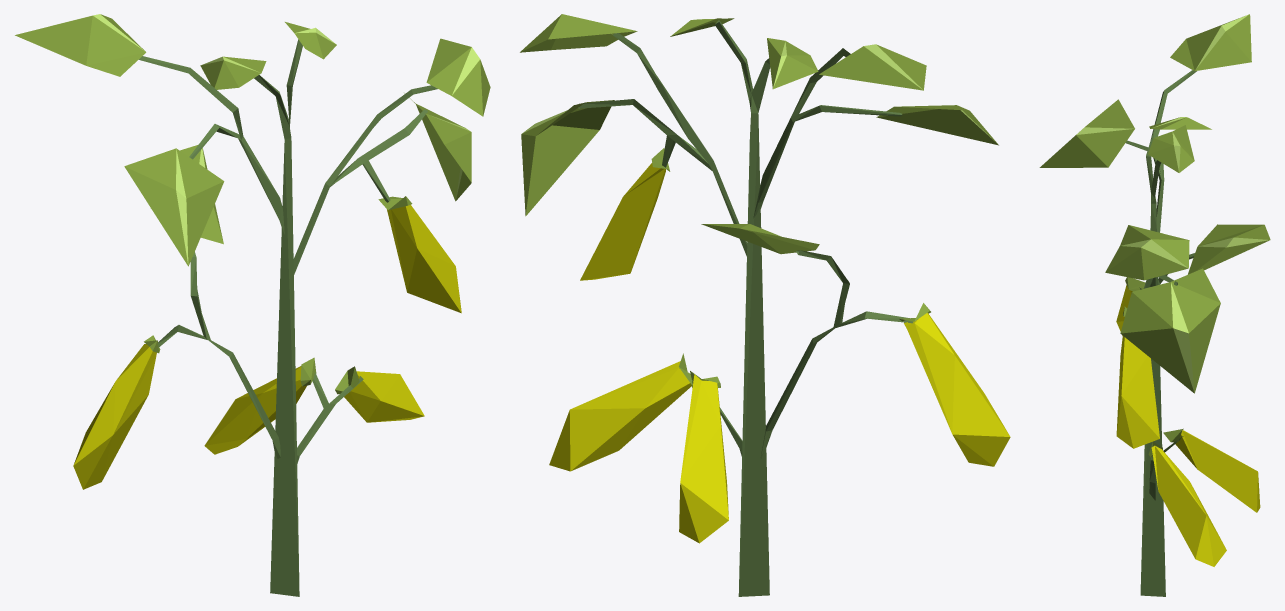
The model's file is Beans_3.fbx.
The picture shows the model from 3 angles, left to right: view 1: azimuth 30°, elevation 25°; view 2: azimuth 150°, elevation 25°; view 3: azimuth 270°, elevation 25°; orthographic projection. The views are drawn at different scales.
Parts seen in each view (by area): view 1: Beans_4; view 2: Beans_4; view 3: Beans_4.
Part boxes in pixels (x1,y1,x2,y2): Beans_4: (15, 14, 490, 596); Beans_4: (520, 14, 1010, 596); Beans_4: (1039, 14, 1270, 596).
Size of the model in its own units: 45.11 by 58.78 by 24.48.
